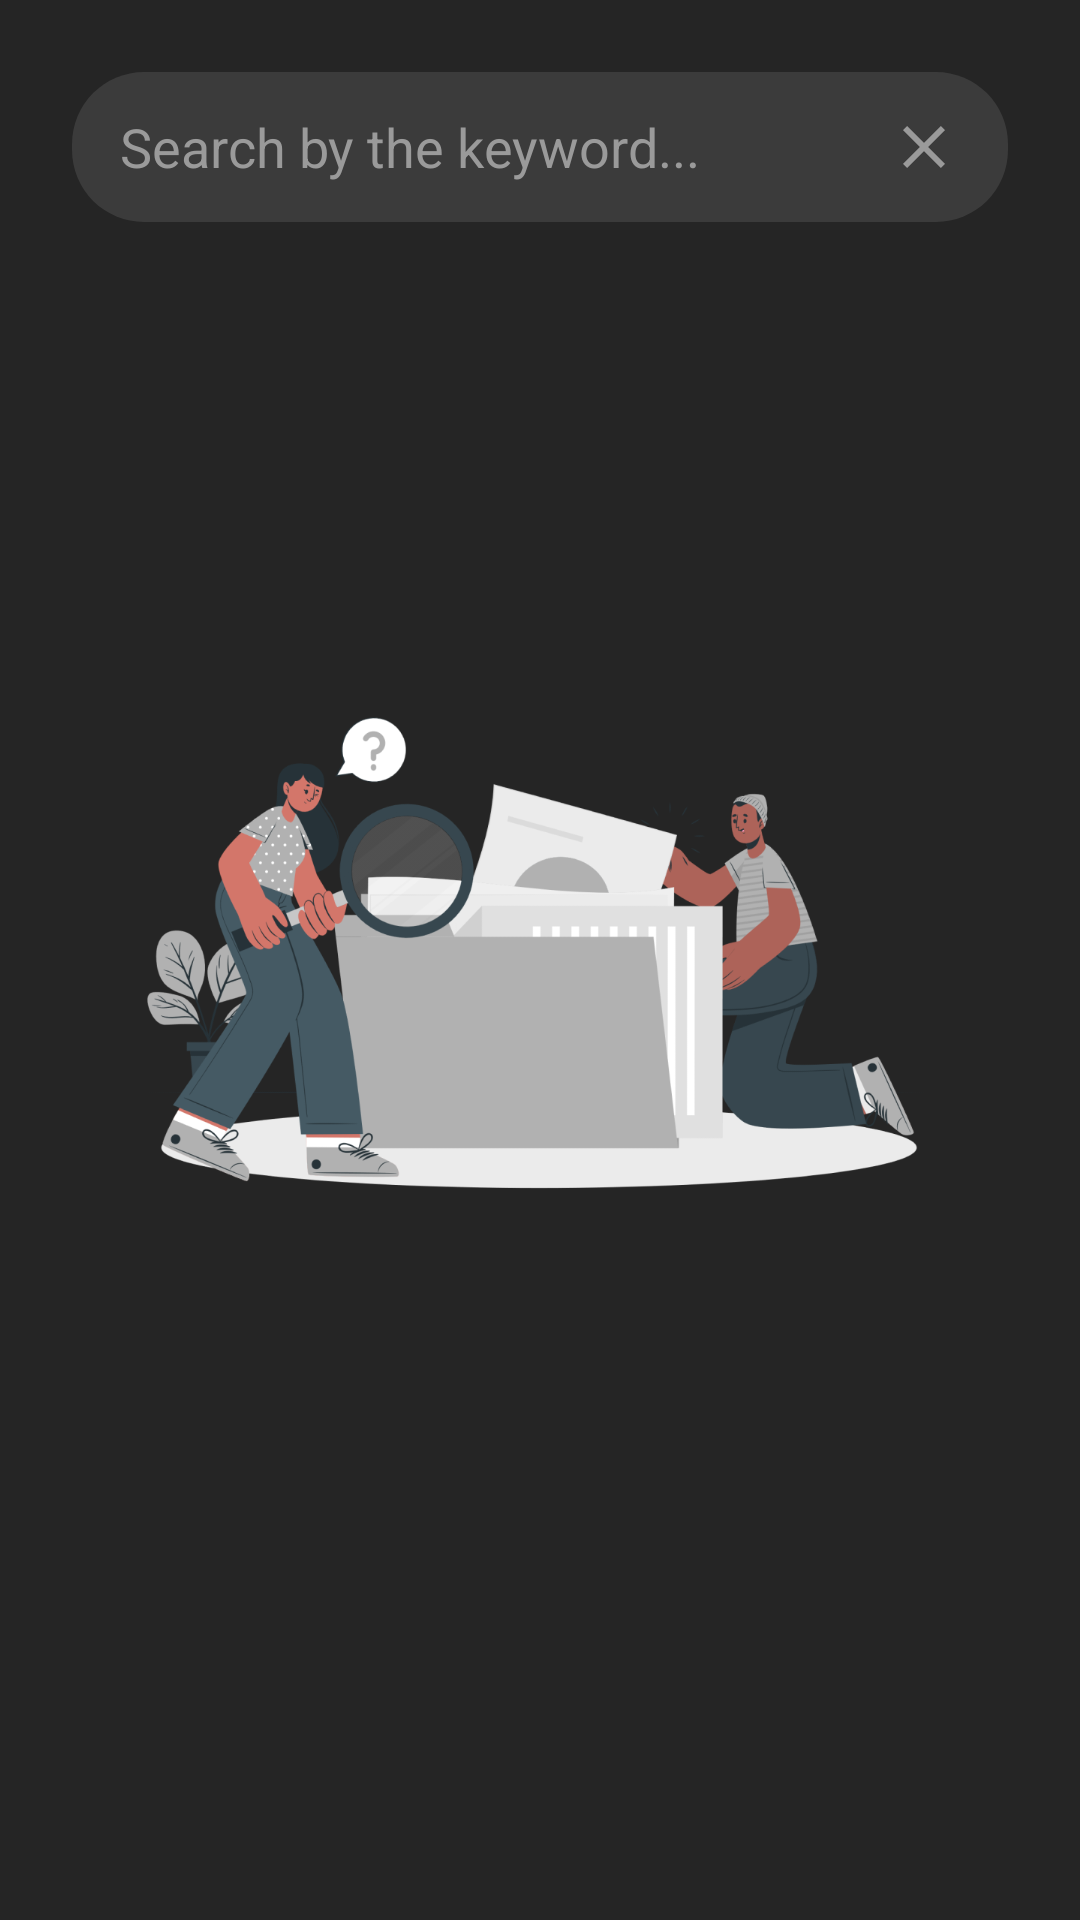

Icons on this 1080px x 1920px Android screen, each with its box as (x1, y1, x2, y2):
close secondary: (903, 126, 945, 168)
